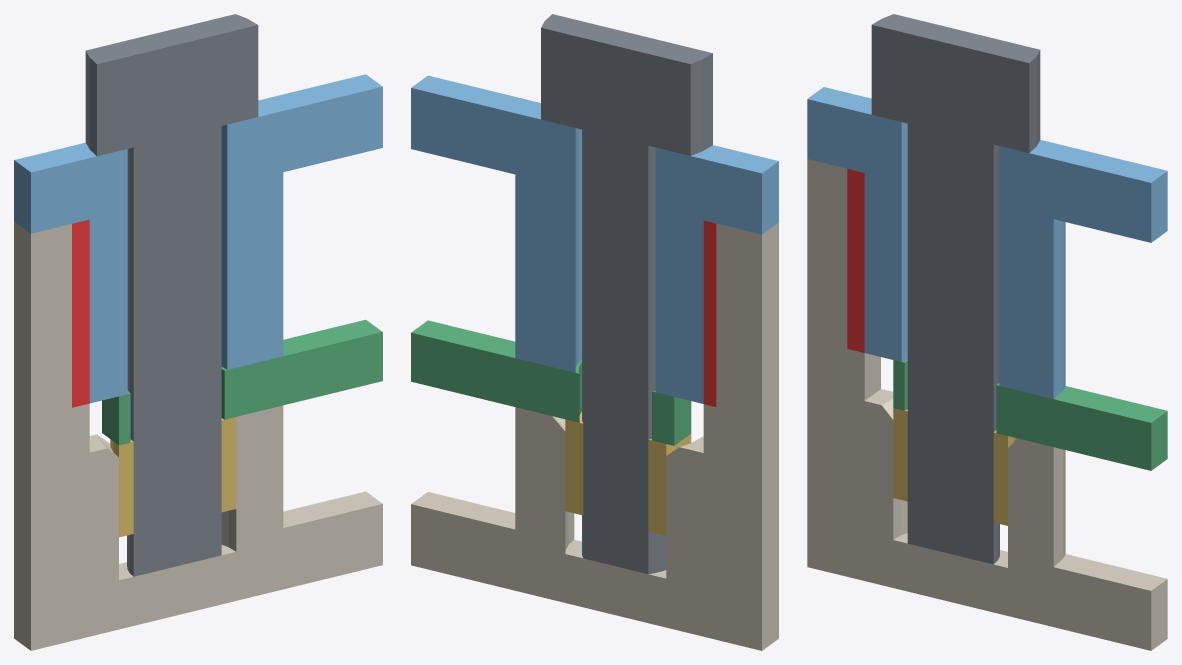
The model's file is lid-column-base-wall-collision.actual.glb.
3 renders of one model, left to right at view 1: azimuth 30°, elevation 25°; view 2: azimuth 150°, elevation 25°; view 3: azimuth 330°, elevation 25°, orthographic. The views are drawn at different scales.
Visible parts, largest first — view 1: EN1.H1.screw, base, lid, board, intersection-highlight, EN1.H1.insert; view 2: base, EN1.H1.screw, lid, board, EN1.H1.insert, intersection-highlight; view 3: EN1.H1.screw, base, lid, board, intersection-highlight, EN1.H1.insert.
Boxes of the visible parts, bbox=[...] form: EN1.H1.screw: bbox=[85, 14, 258, 576]; base: bbox=[14, 221, 382, 650]; lid: bbox=[14, 74, 382, 403]; board: bbox=[102, 319, 382, 445]; intersection-highlight: bbox=[72, 219, 89, 407]; EN1.H1.insert: bbox=[110, 417, 236, 537]; base: bbox=[411, 222, 778, 650]; EN1.H1.screw: bbox=[541, 14, 712, 574]; lid: bbox=[411, 75, 778, 403]; board: bbox=[411, 320, 691, 445]; EN1.H1.insert: bbox=[565, 412, 691, 535]; intersection-highlight: bbox=[703, 220, 716, 406]; EN1.H1.screw: bbox=[871, 14, 1040, 564]; base: bbox=[807, 159, 1167, 650]; lid: bbox=[807, 87, 1167, 398]; board: bbox=[893, 359, 1167, 470]; intersection-highlight: bbox=[847, 169, 864, 352]; EN1.H1.insert: bbox=[893, 408, 1015, 525].
Size of the model in its own units: 12 by 18.6 by 1.
